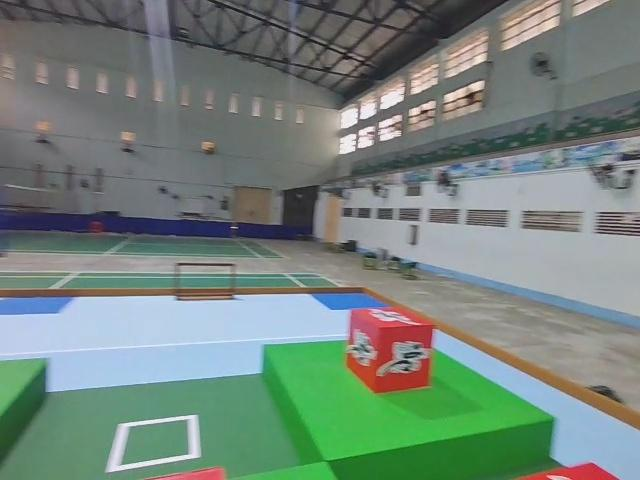R1: (344, 302, 436, 395)
